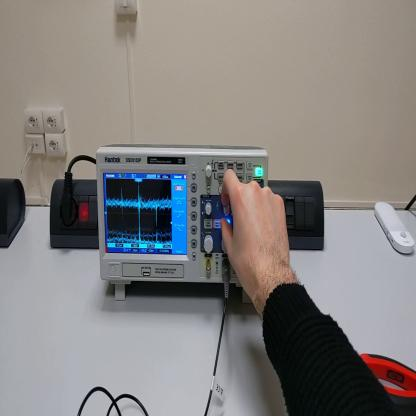hand: (220, 170, 292, 301)
oscilloscope: (96, 144, 268, 305)
pliers: (361, 352, 416, 416)
socket: (49, 178, 99, 249), (2, 177, 28, 248)
